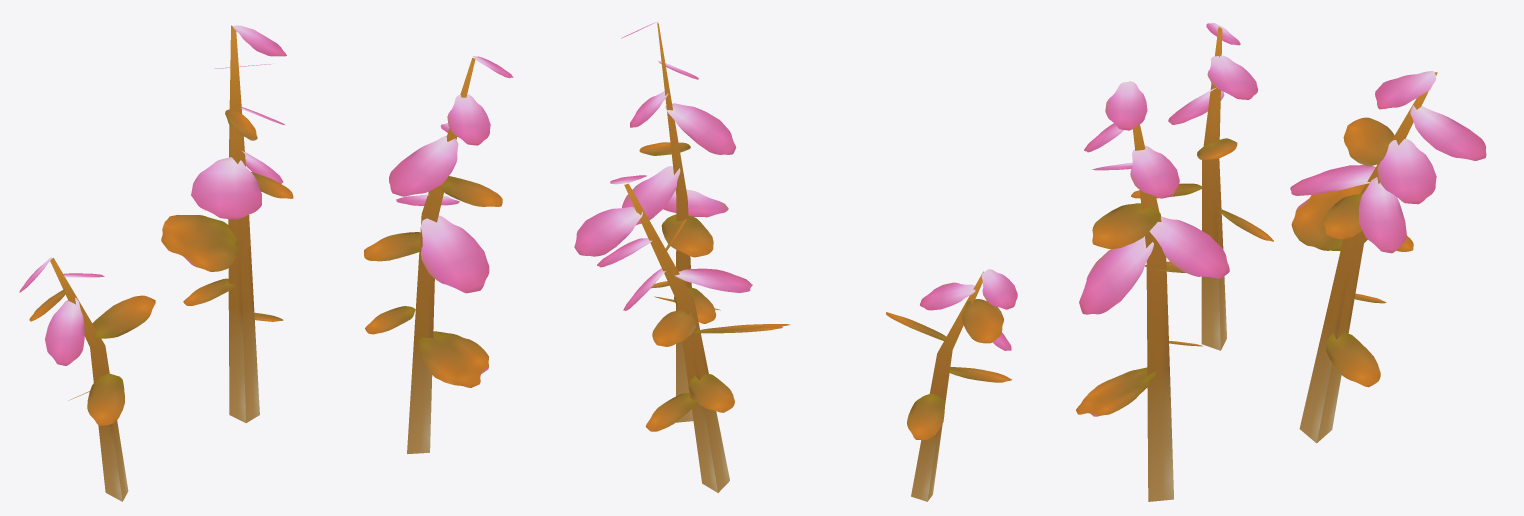
File: P_FlowerDesertPink01.obj
3 views of the same model, side by side, from view 1: azimuth 30°, elevation 25°; view 2: azimuth 150°, elevation 25°; view 3: azimuth 270°, elevation 25° (orthographic). The views are drawn at different scales.
Size of the model in its own units: 0.8474 by 0.6885 by 0.6369.
